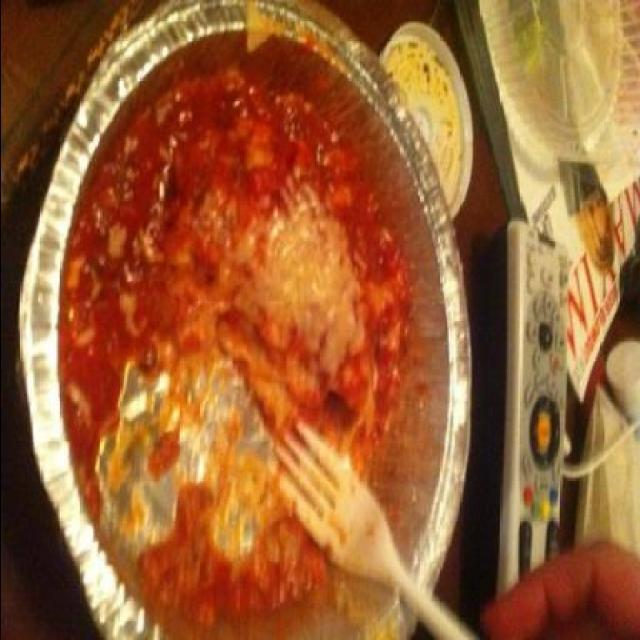Lasagna: (74, 76, 418, 618)
